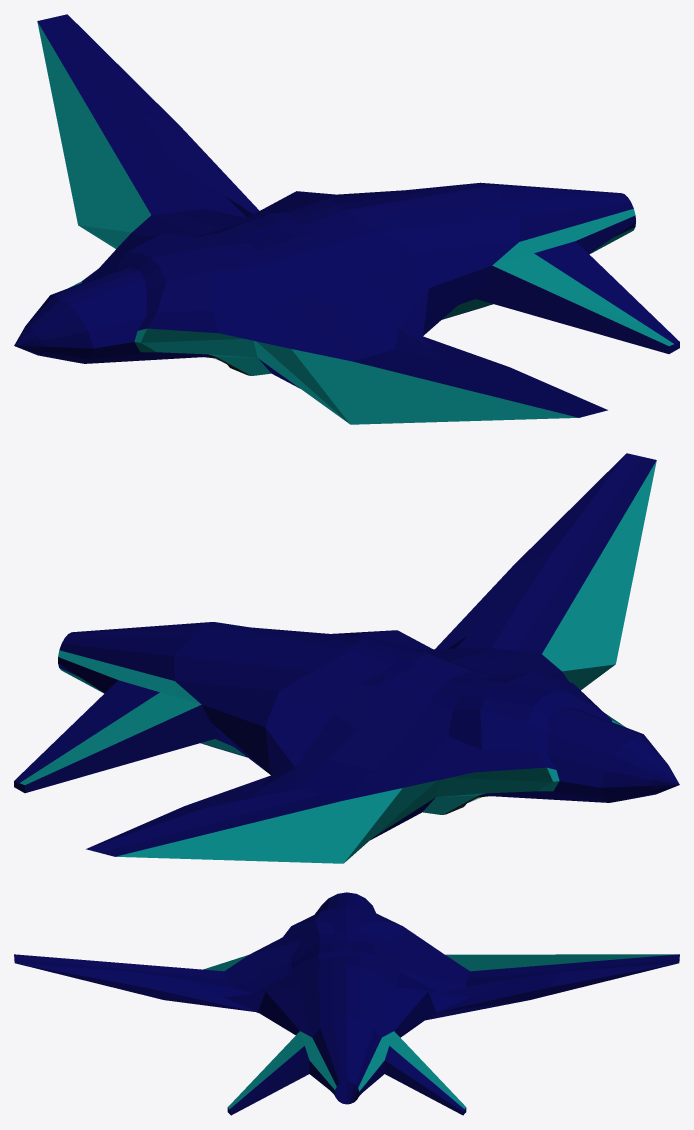
Rendered from SpaceShip.fbx.
3 renders of one model, top to bottom at view 1: azimuth 30°, elevation 25°; view 2: azimuth 150°, elevation 25°; view 3: azimuth 270°, elevation 25°, orthographic. The views are drawn at different scales.
Parts seen in each view (by area): view 1: Sphere; view 2: Sphere; view 3: Sphere.
Boxes of the visible parts, left/top/right/bottom form: Sphere: left=14, top=14, right=679, bottom=424; Sphere: left=14, top=453, right=679, bottom=863; Sphere: left=14, top=892, right=679, bottom=1115.
Size of the model in its own units: 4.54 by 0.9247 by 6.95.
